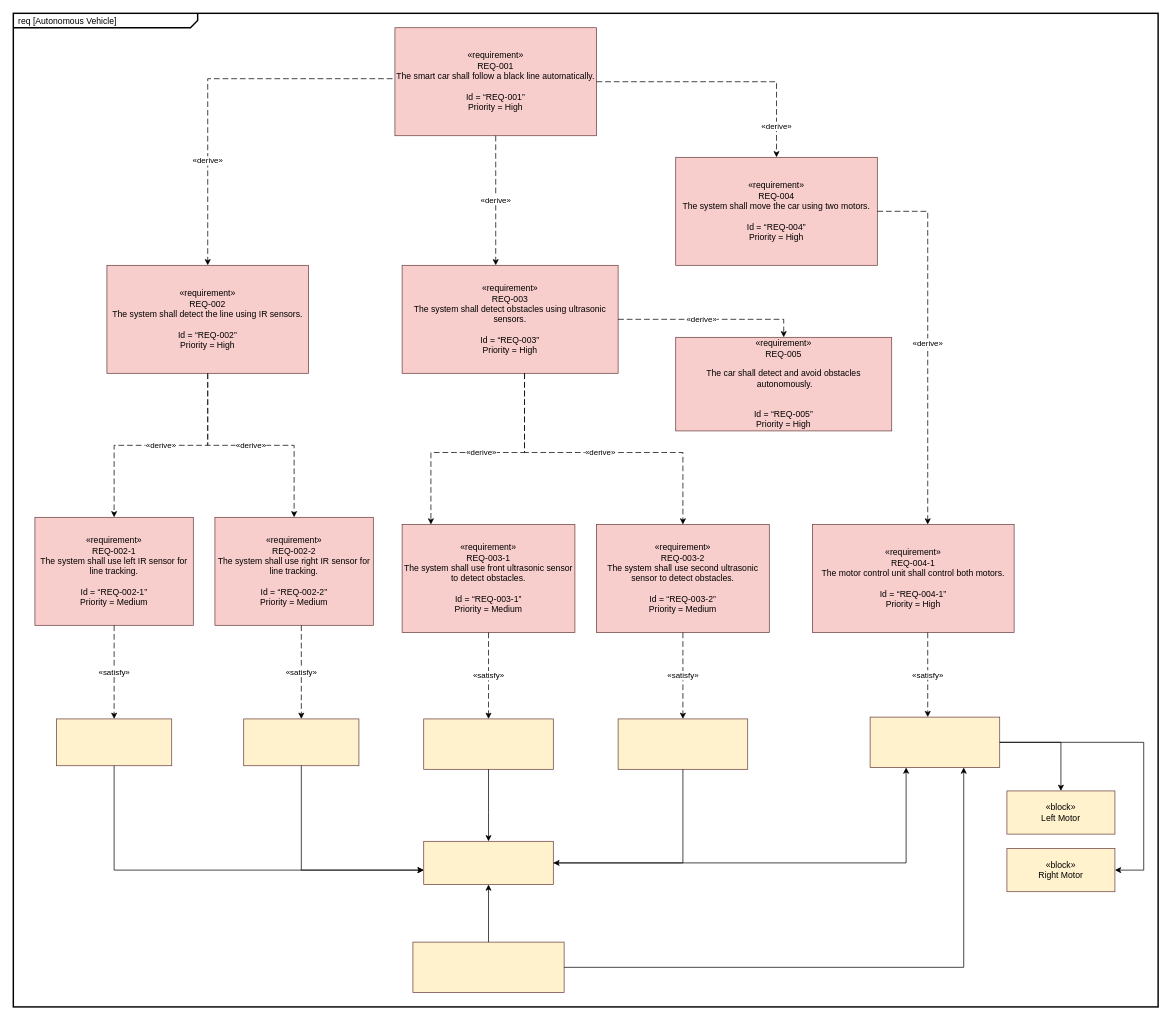
This 1171x1020 diagram has some shape labels left out. The shapes that lost their labels are listed below. From the top down, each one's centre as x and y in pixels, then its label:
At pixel 114 742: "«block» Left IR Sensor".
At pixel 301 742: "«block» Right IR Sensor".
At pixel 488 743: "«block» First Ultrasonic Sensor".
At pixel 682 743: "«block» Second Ultrasonic Sensor".
At pixel 934 742: "«block» Motor Control Unit".
At pixel 488 863: "«block» Arduino".
At pixel 488 967: "«block» Battery (Power Supply)".
